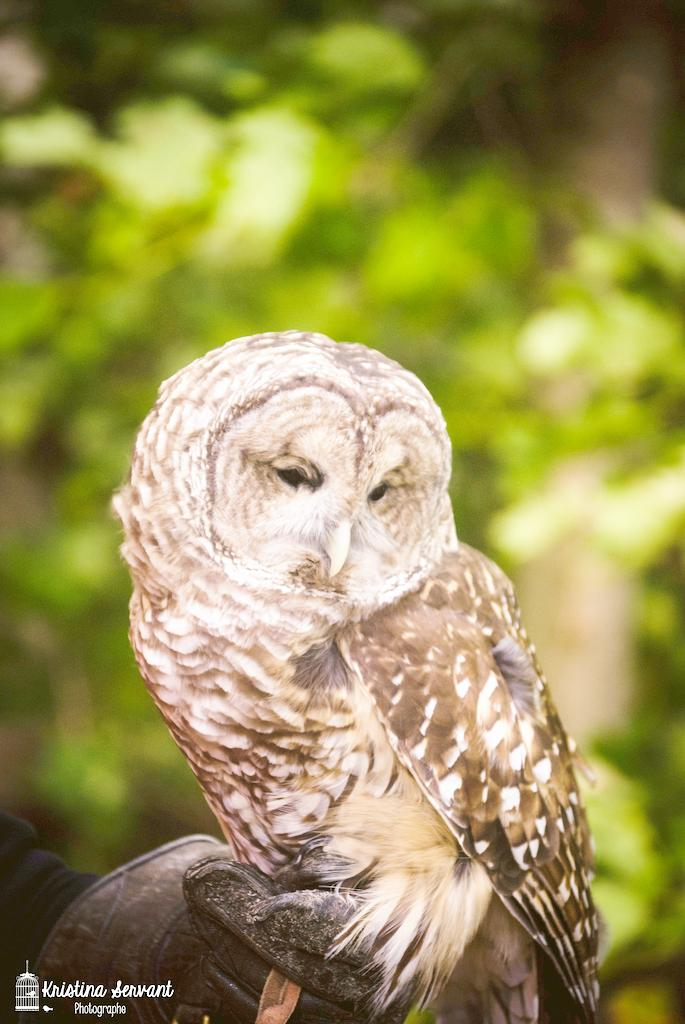Owl: (112, 330, 608, 1024)
